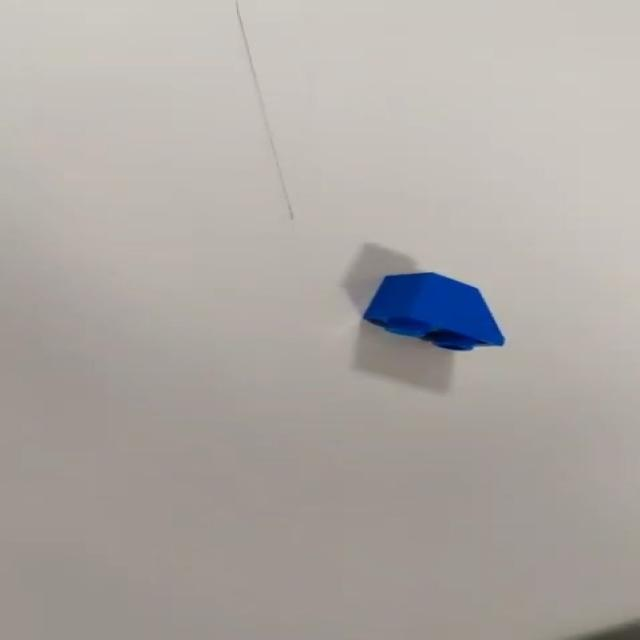X1x2x1: (357, 268, 517, 354)
